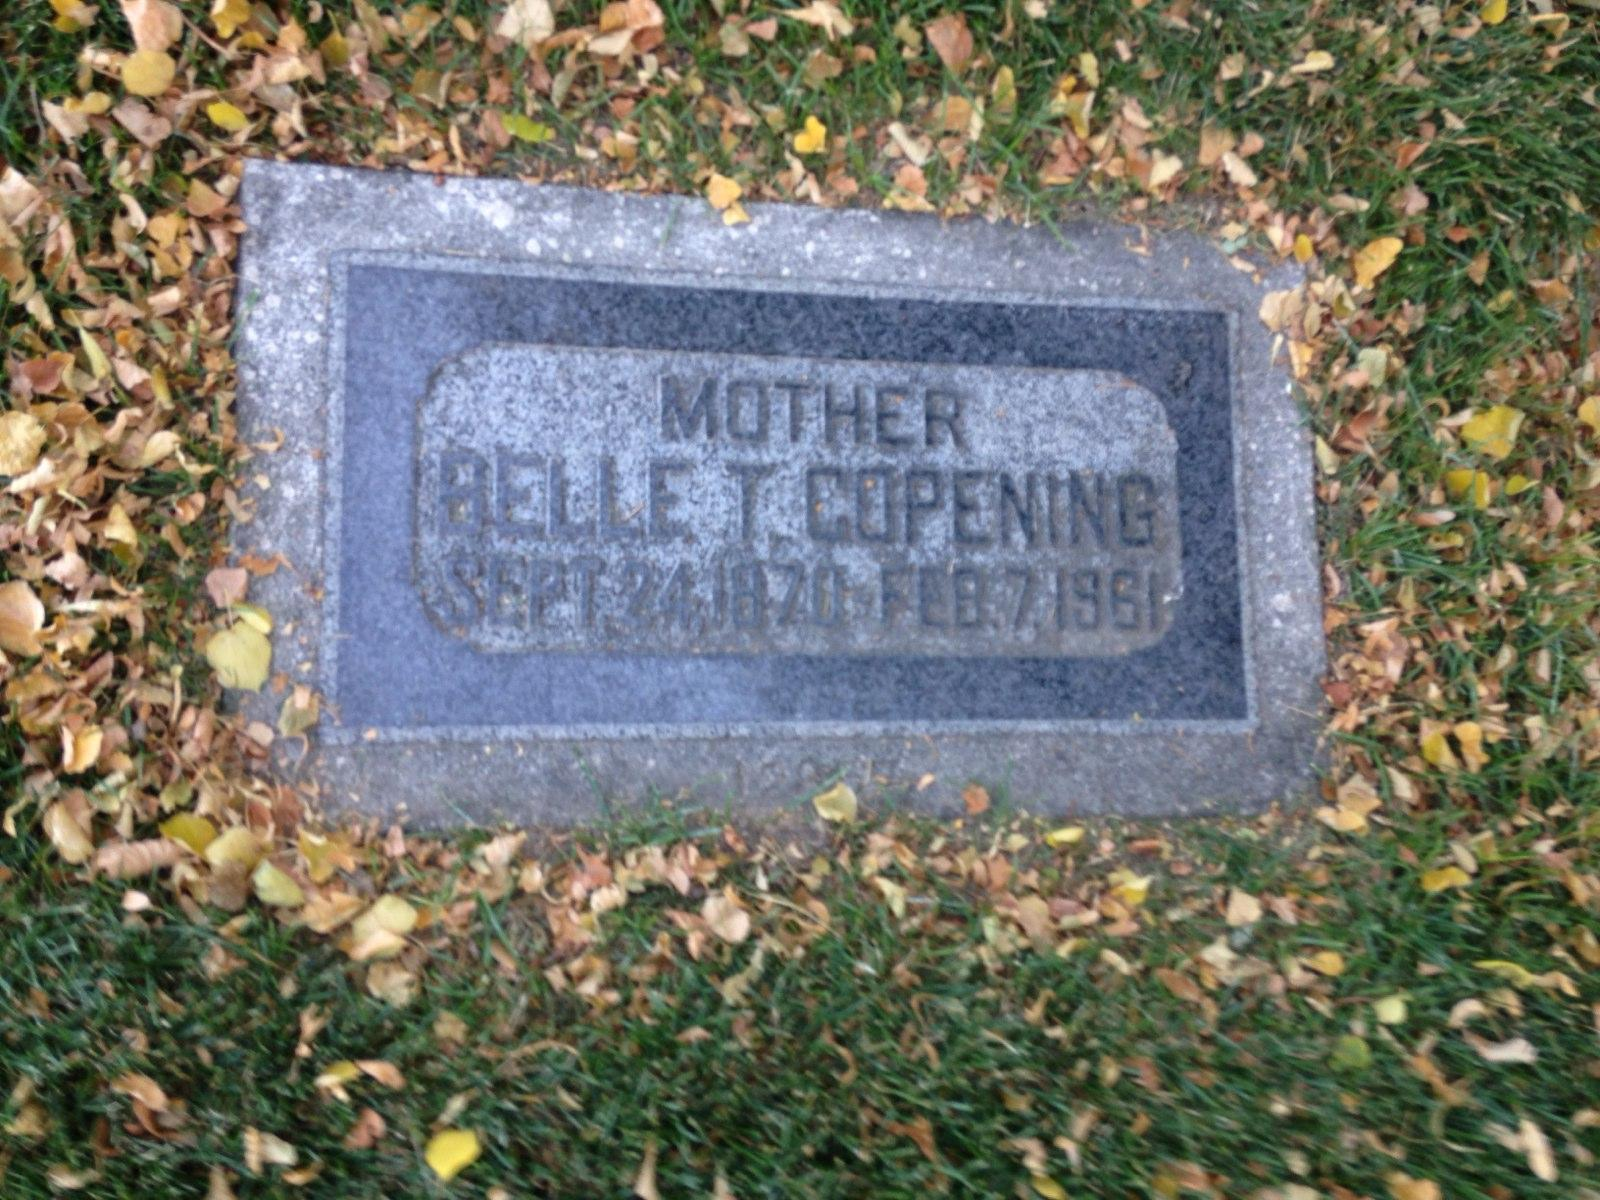flat: (176, 127, 1368, 874)
